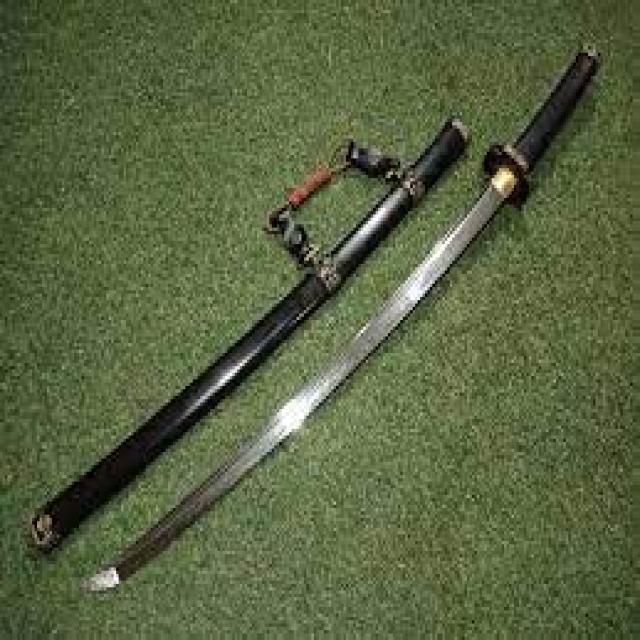long sword: (81, 40, 604, 596)
